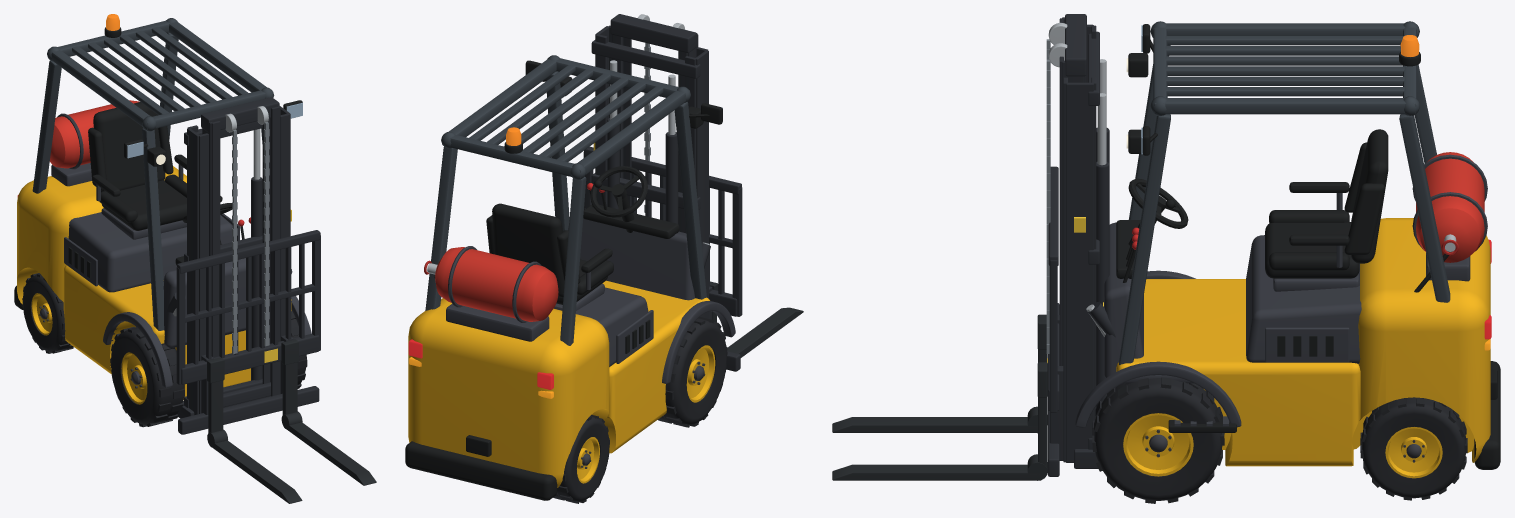
The model's file is forklift_counterbalance.glb.
3 views of the same model, side by side, from view 1: azimuth 30°, elevation 25°; view 2: azimuth 150°, elevation 25°; view 3: azimuth 270°, elevation 25° (orthographic). The views are drawn at different scales.
Visible parts, largest first — view 1: body_geo, fork_carriage_geo, mast_inner_geo, mast_outer_geo, wheel_FR_geo, fork_L_geo, fork_R_geo, wheel_RR_geo, wheel_FL_geo; view 2: body_geo, mast_outer_geo, wheel_FR_geo, fork_carriage_geo, mast_inner_geo, wheel_RR_geo, fork_R_geo; view 3: body_geo, mast_outer_geo, wheel_FL_geo, wheel_RL_geo, mast_inner_geo, fork_L_geo, fork_carriage_geo, fork_R_geo.
Boxes of the visible parts, x1,y1,x2,y2 form: body_geo: (14,18,311,400); fork_carriage_geo: (176,230,320,434); mast_inner_geo: (201,97,280,407); mast_outer_geo: (166,106,292,418); wheel_FR_geo: (110,326,184,427); fork_L_geo: (281,339,376,485); fork_R_geo: (207,357,302,503); wheel_RR_geo: (22,273,73,353); wheel_FL_geo: (291,310,307,388); body_geo: (405,55,735,500); mast_outer_geo: (591,25,710,318); wheel_FR_geo: (658,317,727,427); fork_carriage_geo: (583,146,742,371); mast_inner_geo: (610,14,698,232); wheel_RR_geo: (553,414,609,503); fork_R_geo: (710,281,803,357); body_geo: (1075,21,1500,469); mast_outer_geo: (1063,24,1115,468); wheel_FL_geo: (1092,377,1224,503); wheel_RL_geo: (1360,397,1467,500); mast_inner_geo: (1046,14,1086,365); fork_L_geo: (832,362,1047,480); fork_carriage_geo: (1047,166,1063,476); fork_R_geo: (832,314,1047,433).
Size of the model in its own units: 1.34 by 2.32 by 3.32.
Materials: 2 (2 with a texture image).
